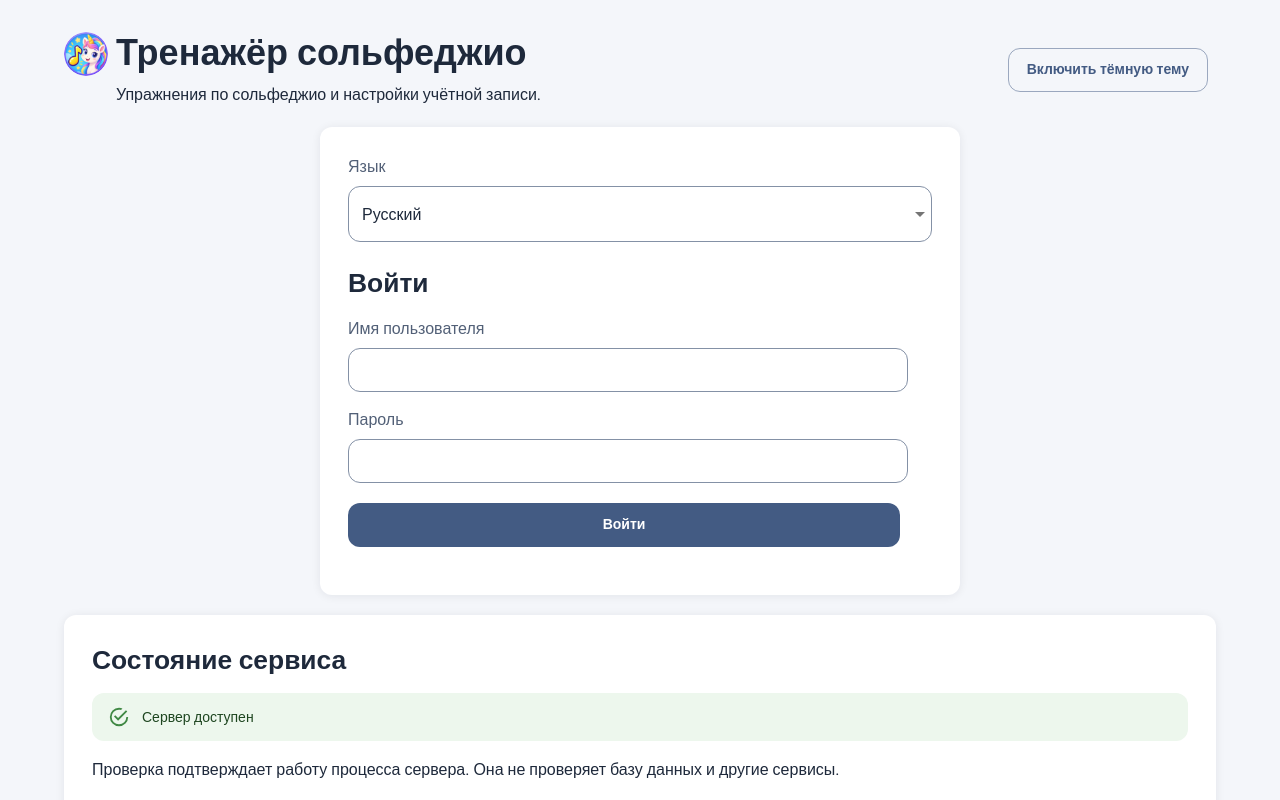
provides a localized circular game shortcut in ru
This screenshot has width=1280, height=800.
Hover over the link named "Играть в Угадай Ноту": (86, 54) [64,32,108,76]
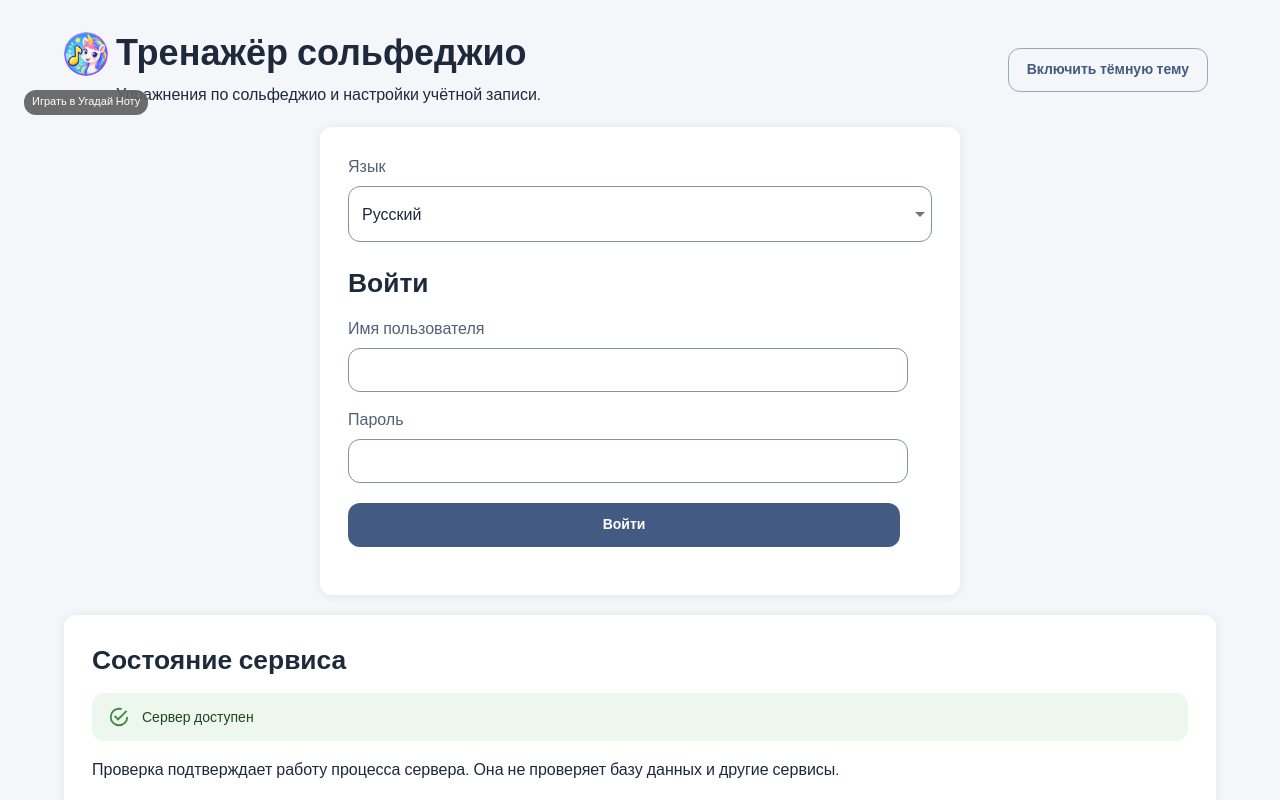
expect the tooltip reads "Играть в Угадай Ноту": met, box [32,95,140,108]
